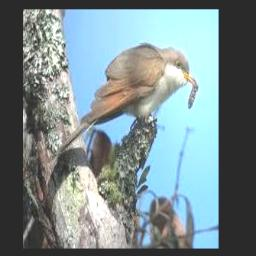Cuckoo: (57, 43, 196, 156)
